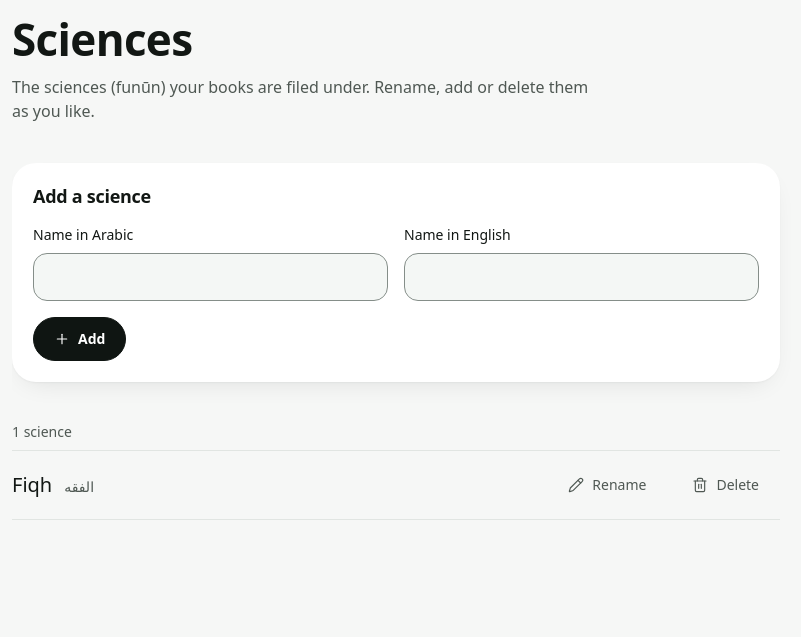
SciencesPage › renames a science, sending back its version
Click the button with aria-label "Rename Fiqh" at (607, 485), box [547,463,667,507]
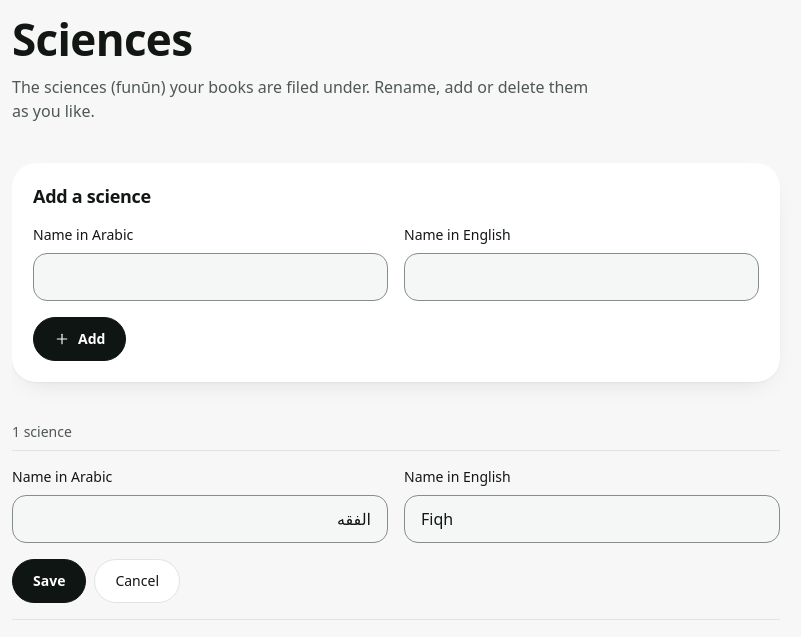
Replace the text in the 2nd field labelled "Name in English" with "Islamic law" at (592, 519), box [404,495,780,543]
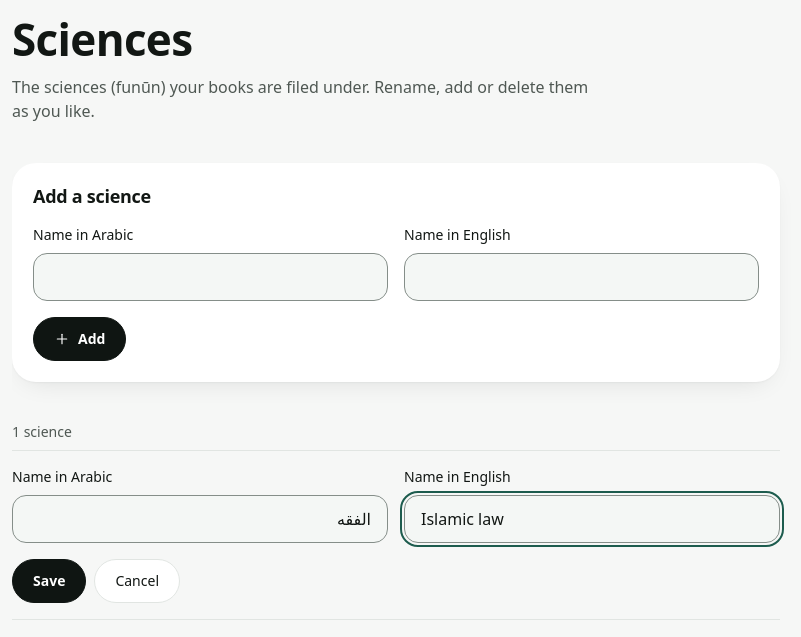
Click the button "Save" at (49, 581), box [12,559,86,603]
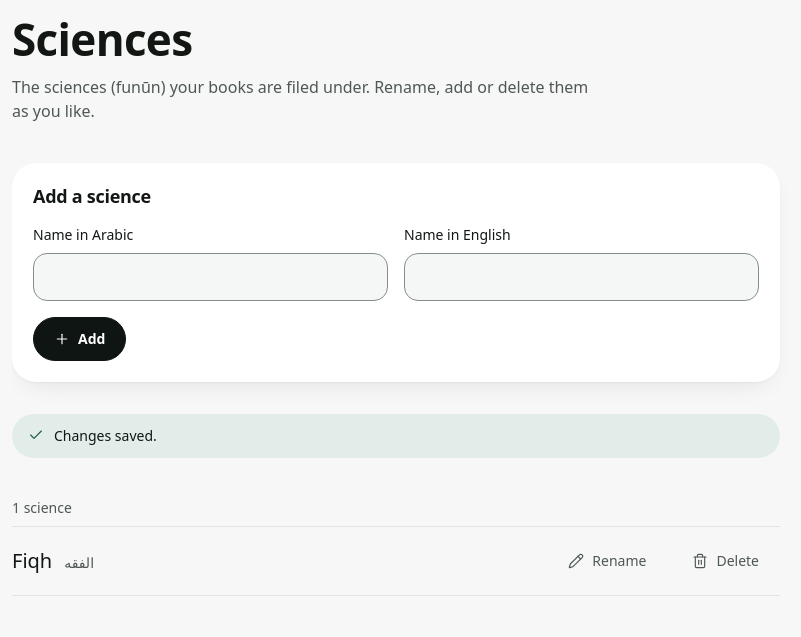
expect the text "Changes saved." is shown: met, box [12,414,780,458]
